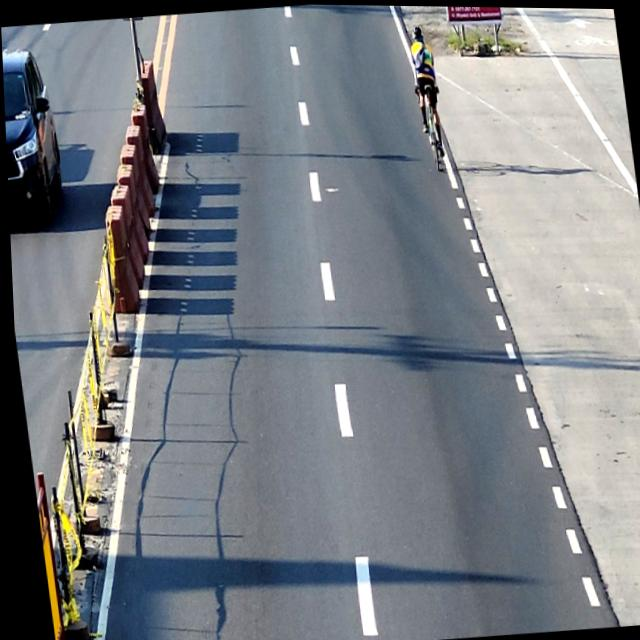Bicycle: (413, 79, 448, 170)
Car: (2, 43, 67, 227)
